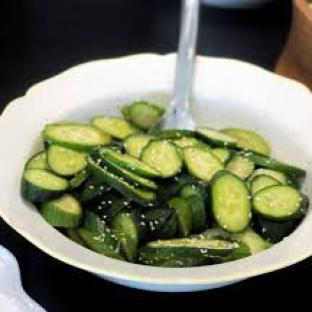Cucumber: (87, 157, 157, 206), (211, 172, 251, 232), (100, 149, 157, 190), (253, 185, 306, 220), (141, 239, 238, 258), (197, 228, 251, 262), (99, 148, 160, 178), (42, 124, 111, 149), (22, 169, 67, 203), (141, 140, 181, 178), (246, 153, 306, 178), (78, 228, 124, 259), (112, 212, 140, 262), (184, 148, 223, 182), (41, 195, 82, 227), (159, 173, 207, 200), (221, 129, 270, 155), (47, 145, 86, 176), (122, 102, 164, 129), (142, 207, 177, 239), (256, 217, 298, 243), (84, 191, 121, 219), (91, 117, 138, 139), (233, 228, 271, 254), (168, 197, 192, 237), (139, 255, 206, 267), (185, 195, 206, 232), (197, 128, 236, 147), (125, 134, 154, 158), (80, 180, 111, 202), (103, 199, 131, 222), (249, 169, 291, 184), (83, 211, 109, 235), (227, 156, 254, 179), (250, 175, 280, 195), (172, 137, 210, 149), (25, 152, 49, 170), (193, 228, 232, 239), (155, 129, 194, 139), (65, 228, 85, 246), (211, 148, 233, 164), (70, 171, 89, 188), (180, 184, 202, 198)
